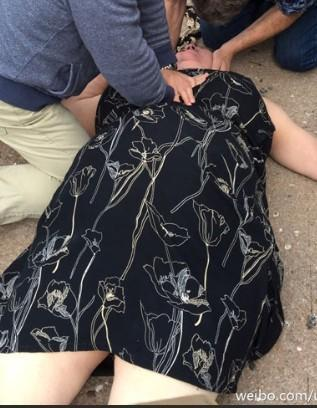Fall-Detected: (0, 13, 317, 393)
